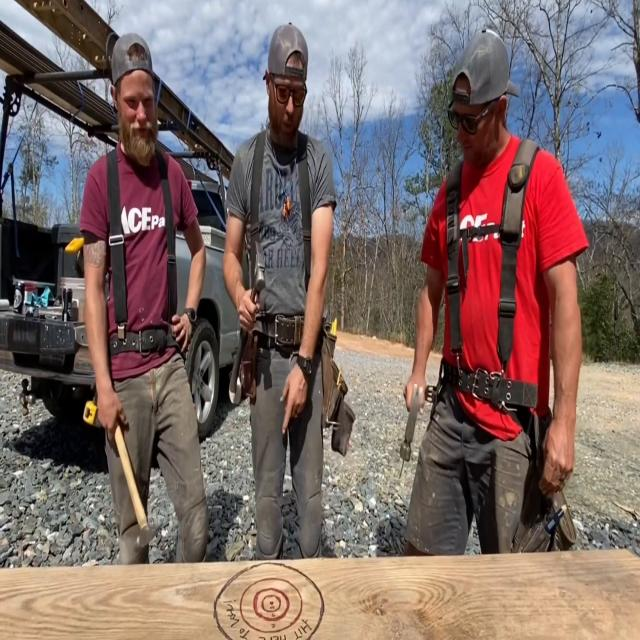hammer: (226, 238, 269, 410), (114, 424, 165, 554), (401, 377, 427, 468)
